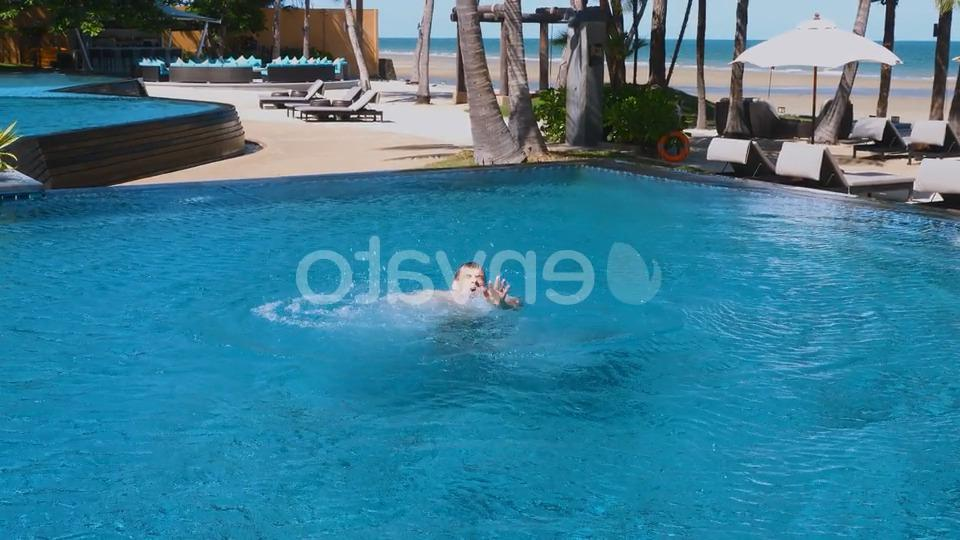Drowning: (352, 190, 716, 362)
